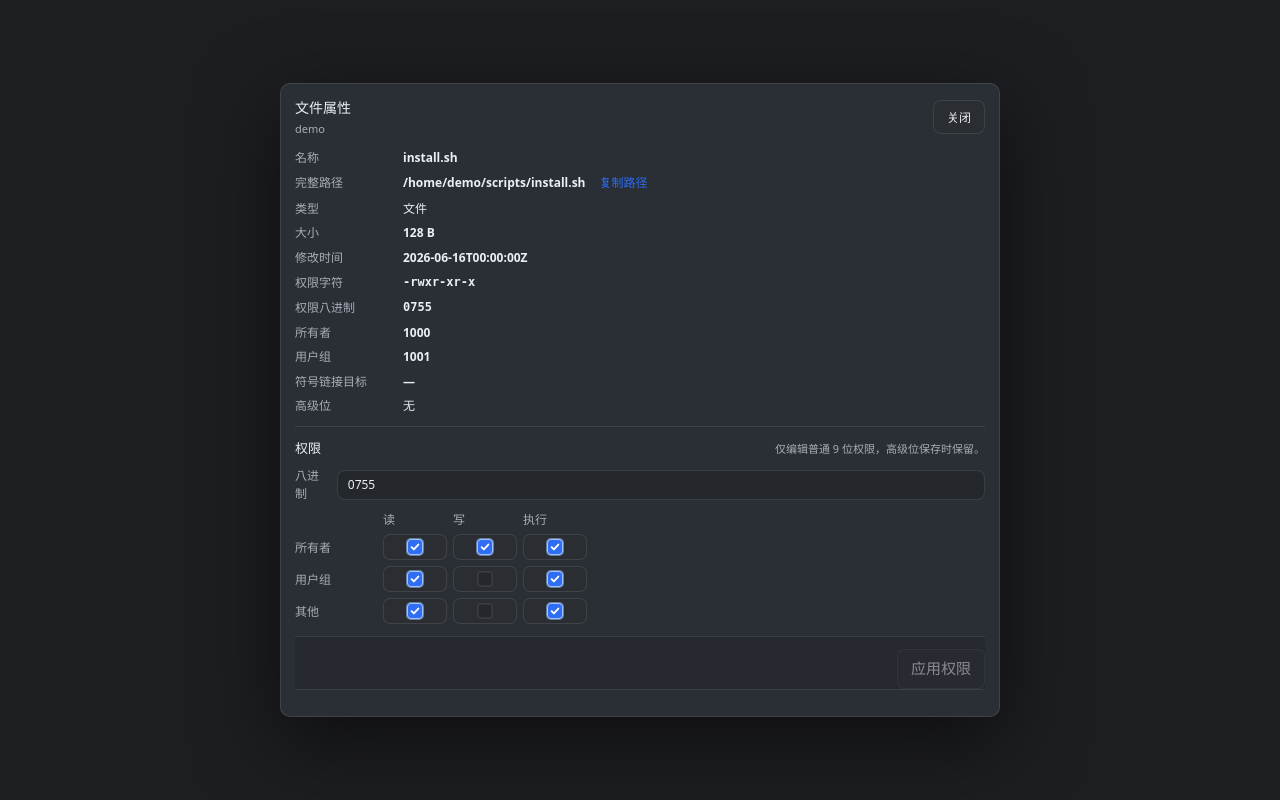
Test case: RemoteFilePropertiesDialog › rejects invalid octal input and keeps apply disabled
Replace the text in the field with test id "properties-mode-input" with "0999" at (661, 485), box [337, 470, 985, 500]
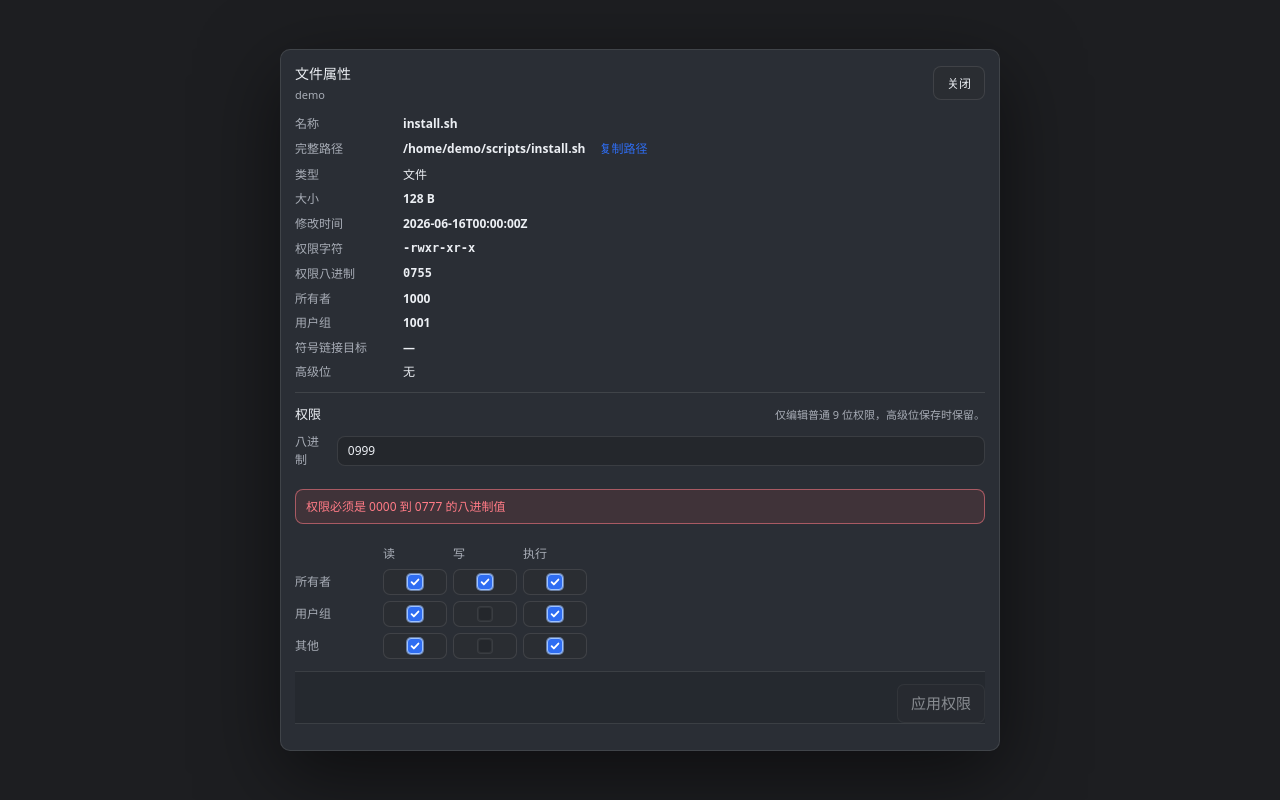
Expected: the button with test id "properties-apply" is disabled, [897, 684, 985, 723]
Expected: the text with test id "properties-mode-error" shows "权限", [295, 489, 985, 524]
